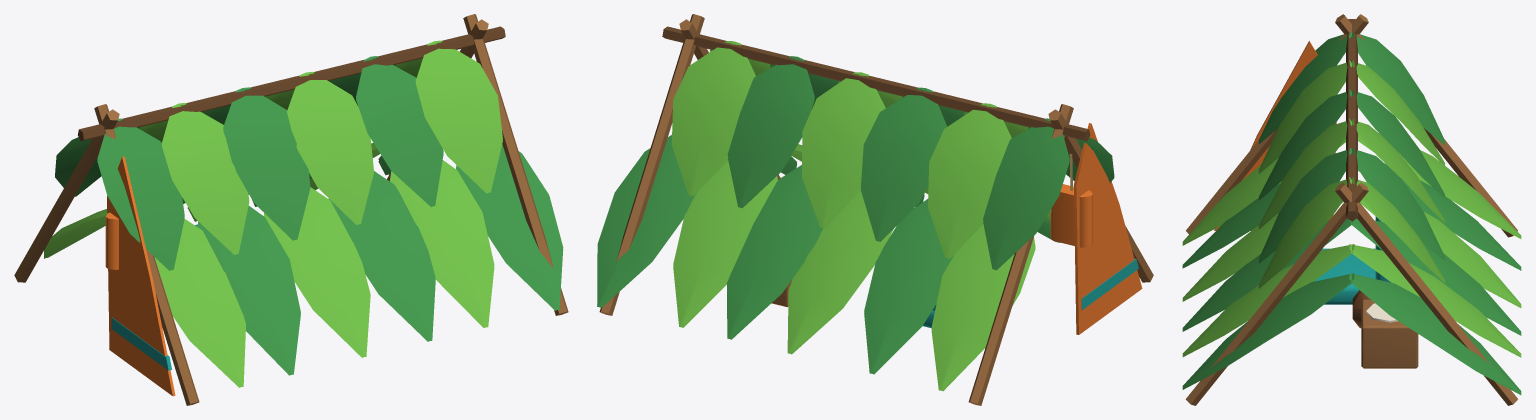
File: Refugio.fbx
3 renders of one model, left to right at view 1: azimuth 30°, elevation 25°; view 2: azimuth 150°, elevation 25°; view 3: azimuth 270°, elevation 25°, orthographic. The views are drawn at different scales.
Parts seen in each view (by area): view 1: Refugio; view 2: Refugio; view 3: Refugio.
Part boxes in pixels (x1,y1,x2,y2): Refugio: [14, 14, 568, 405]; Refugio: [597, 14, 1153, 405]; Refugio: [1182, 14, 1521, 405].
Size of the model in its own units: 9.77 by 5.16 by 7.15.
Materials: 1 (1 with a texture image).
